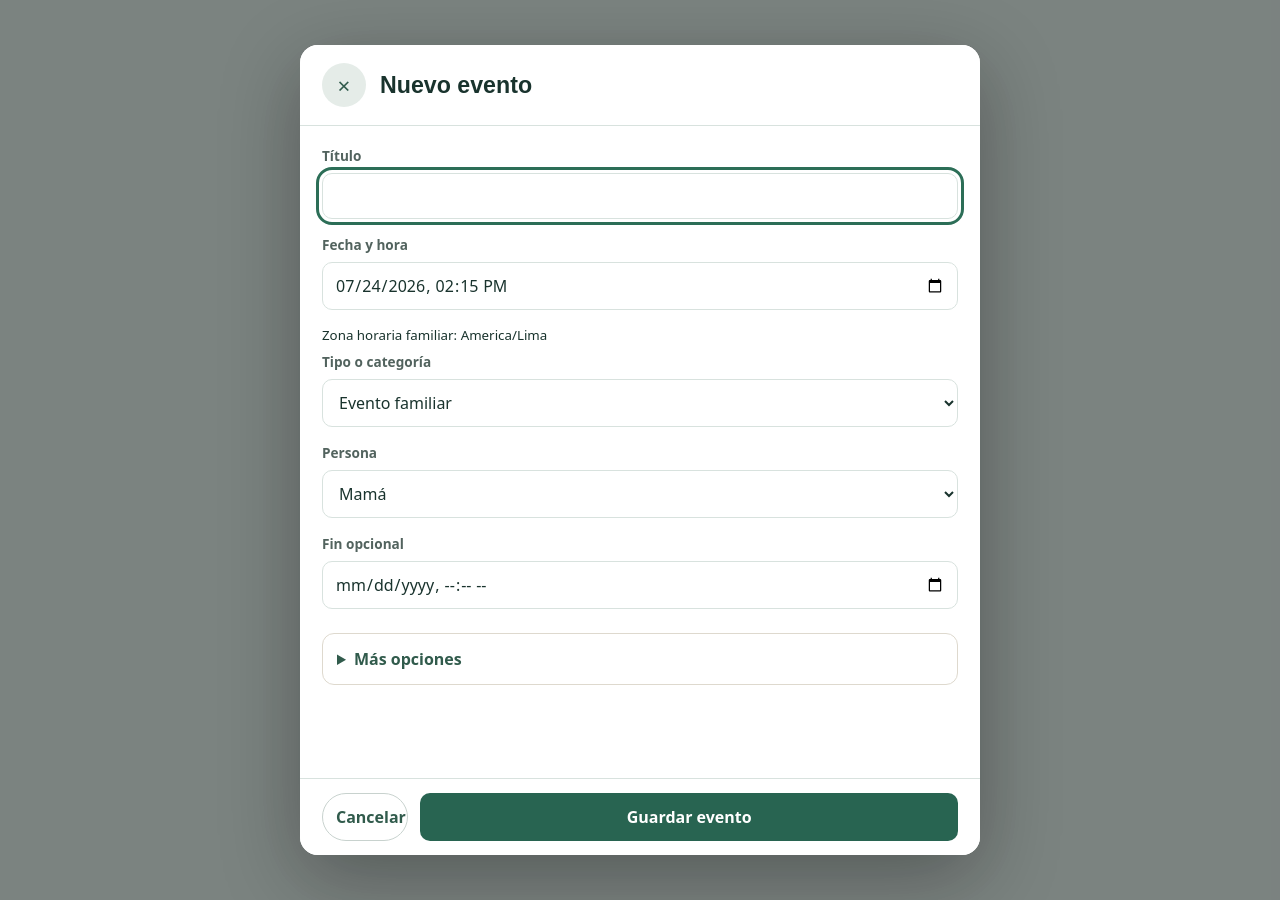
FormularioEvento › valida y enfoca el primer campo incorrecto antes del POST
Replace the text in the field with id "evento-inicio" with "2020-01-01T10:00". click: (640, 286)
box: [322,262,958,310]
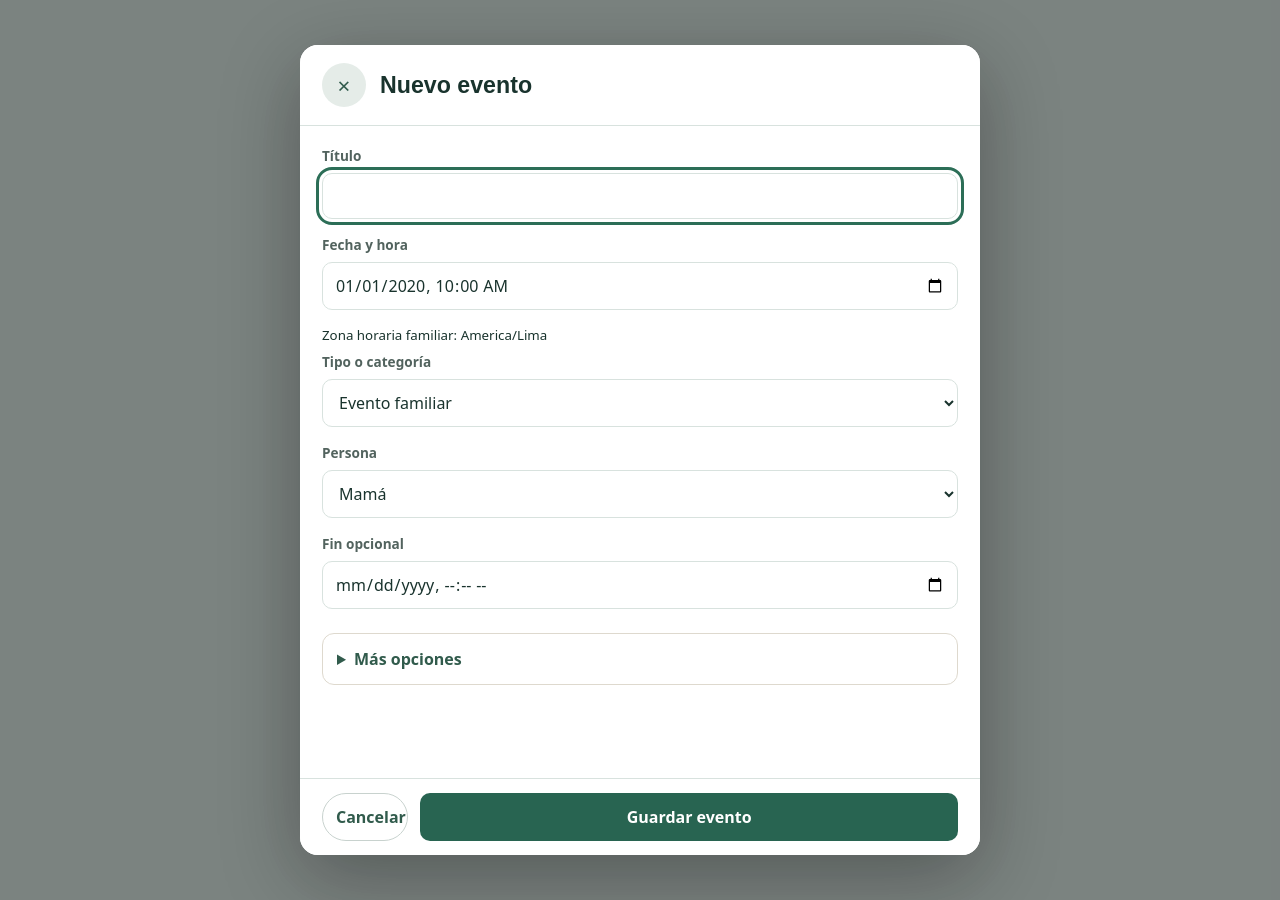
Submit the form, box [300,45,980,855]
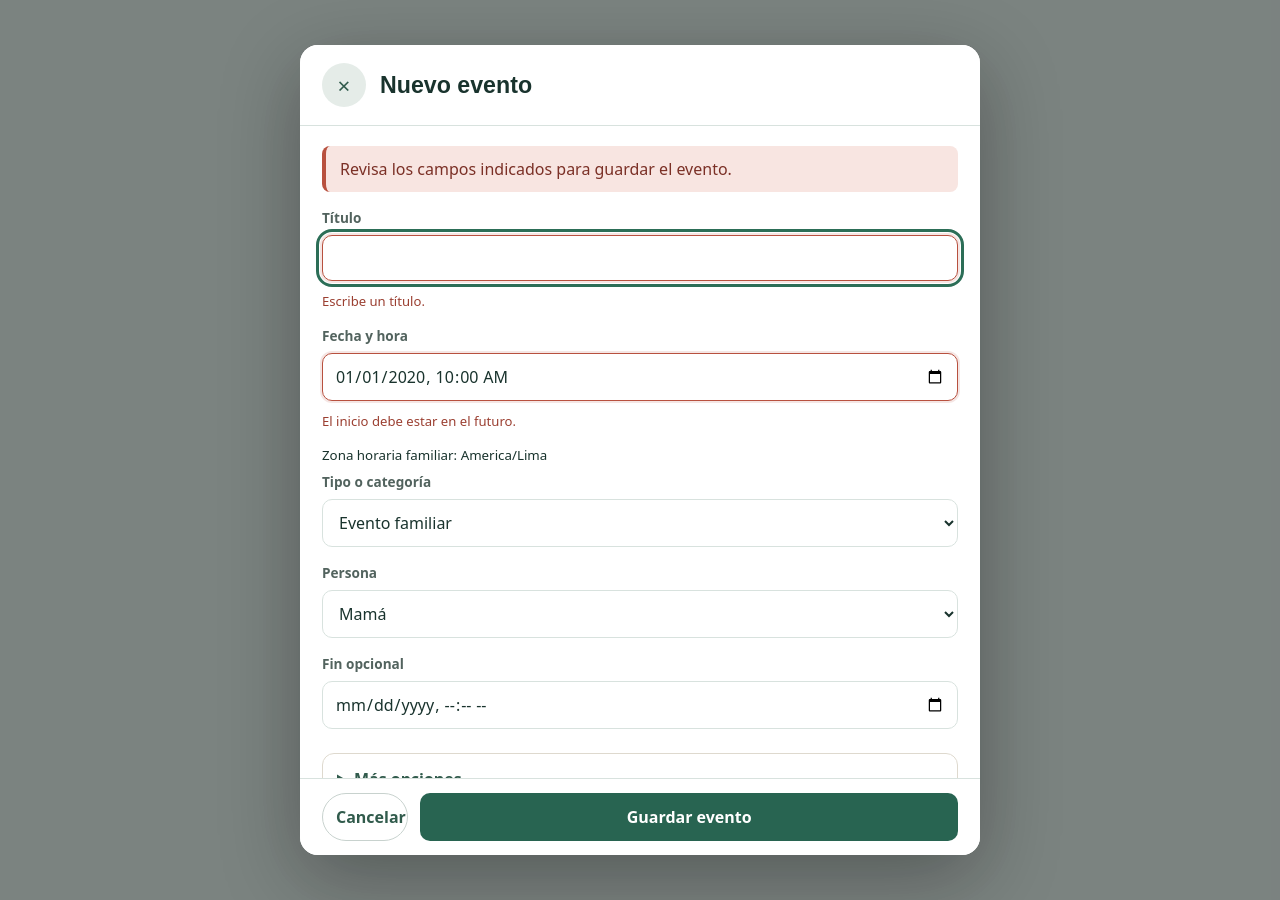
Expected: the text "Revisa los campos" is shown, [340,158,732,180]
